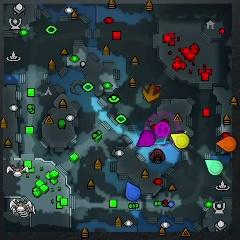Other: (156, 122, 170, 137)
p1: (125, 181, 141, 201)
p2: (204, 159, 223, 176)
p3: (137, 131, 155, 147)
p4: (170, 132, 189, 149)
p5: (216, 136, 237, 153)
x5: (142, 83, 159, 103)
